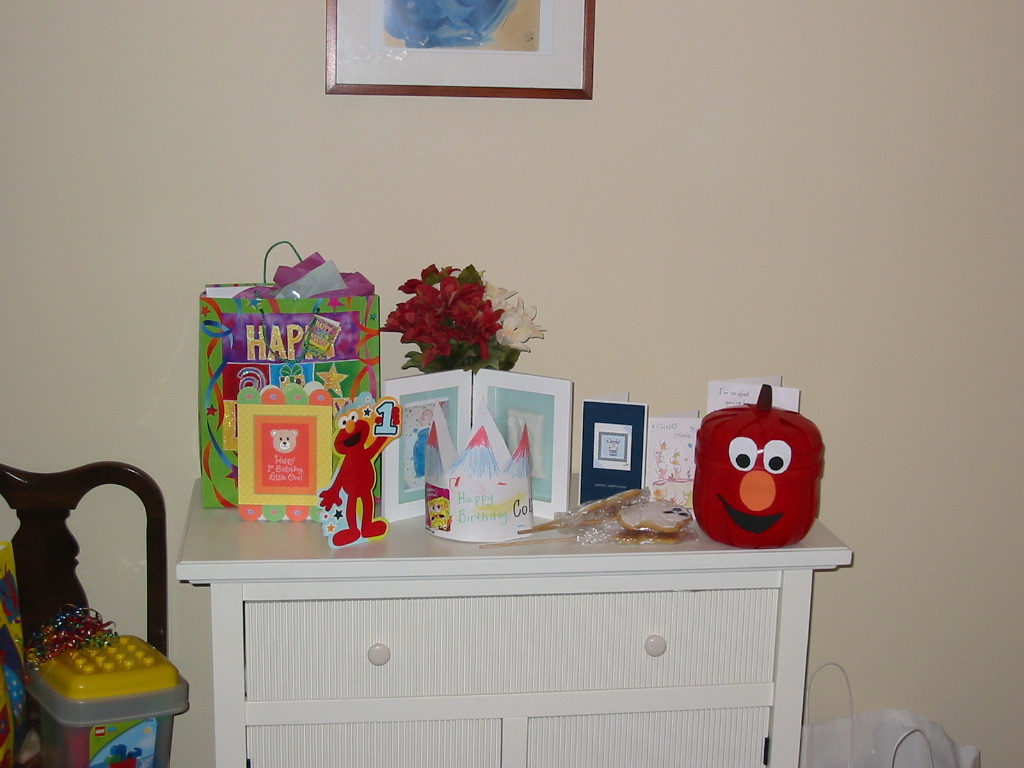cabinet door: (250, 598, 769, 692), (540, 716, 756, 768), (262, 724, 502, 768)
handle: (361, 641, 395, 677), (639, 634, 665, 666)
